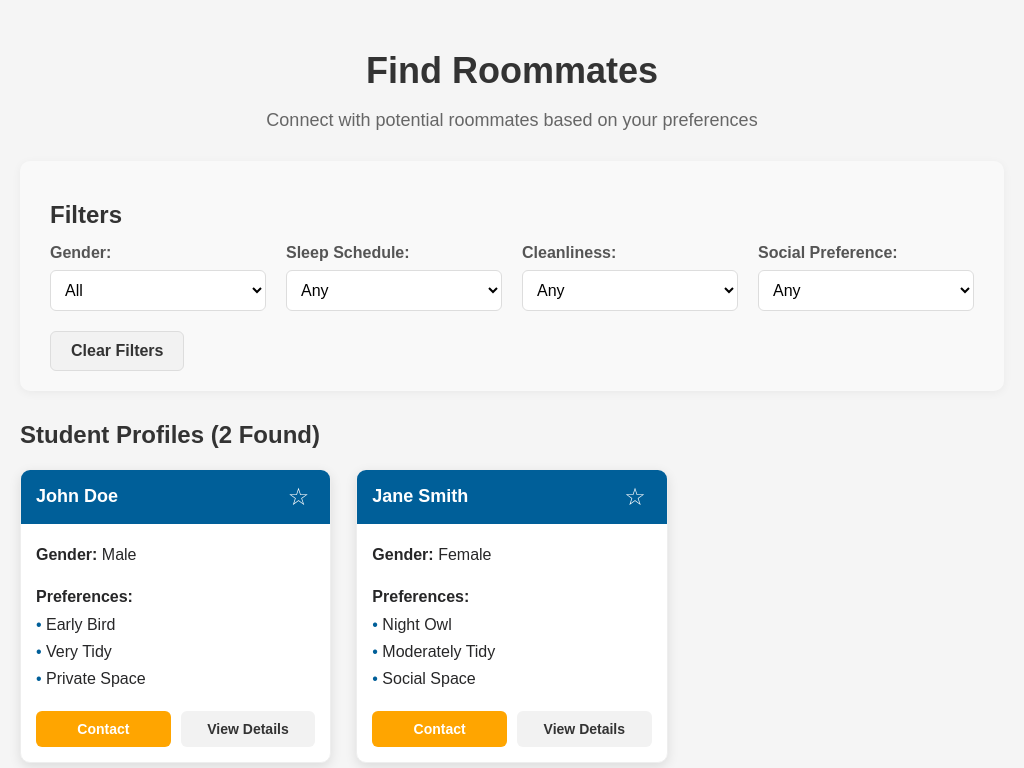
Test: FindRoommate Component › clears all filters when clear button is clicked
Note: Apply a filter first
Select "Male" in the dropdown labelled "Gender:" at (158, 290), box left=50, top=270, right=266, bottom=311
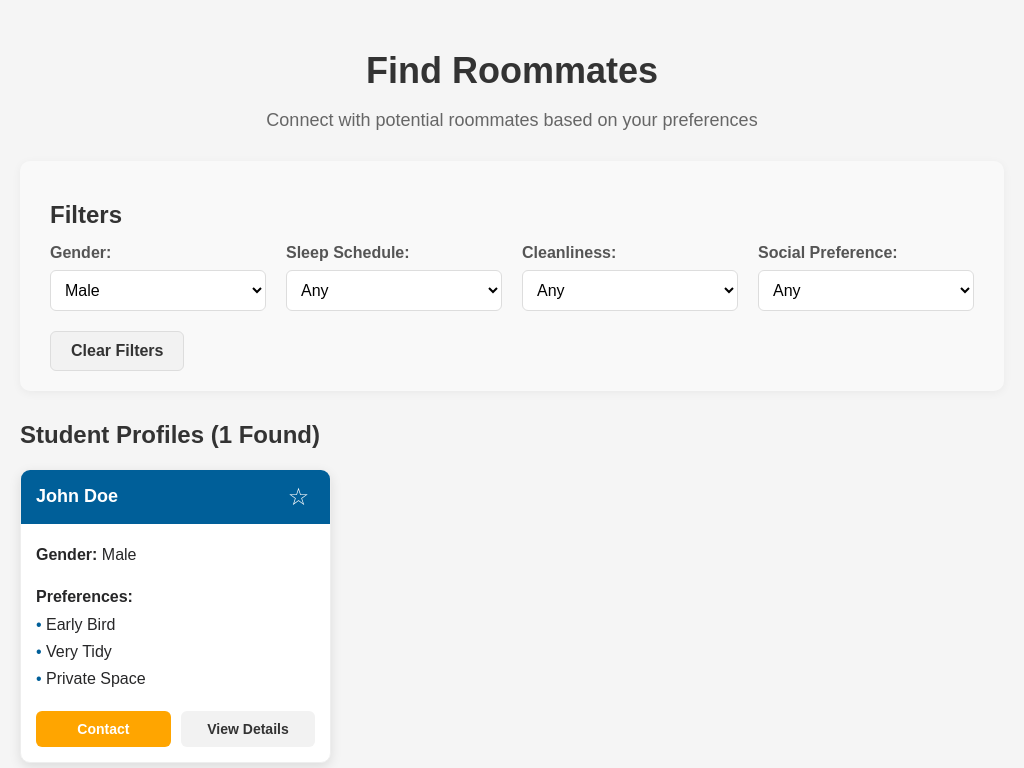
Expected: the heading "John Doe" is shown, left=36, top=486, right=118, bottom=507
Now the heading "Jane Smith" is gone
Note: Clear filters
Click the button "Clear Filters" at (117, 351), box left=50, top=331, right=184, bottom=371
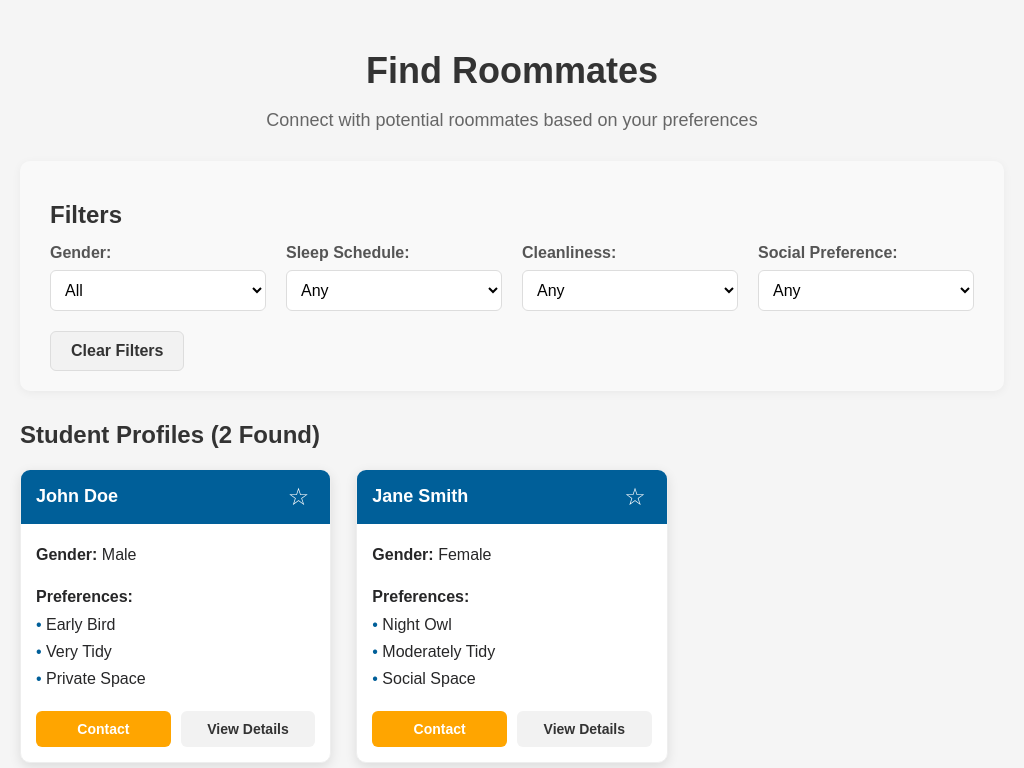
Expected: the heading "John Doe" is shown, left=36, top=486, right=118, bottom=507
Now the heading "Jane Smith" is shown, box left=372, top=486, right=468, bottom=507
